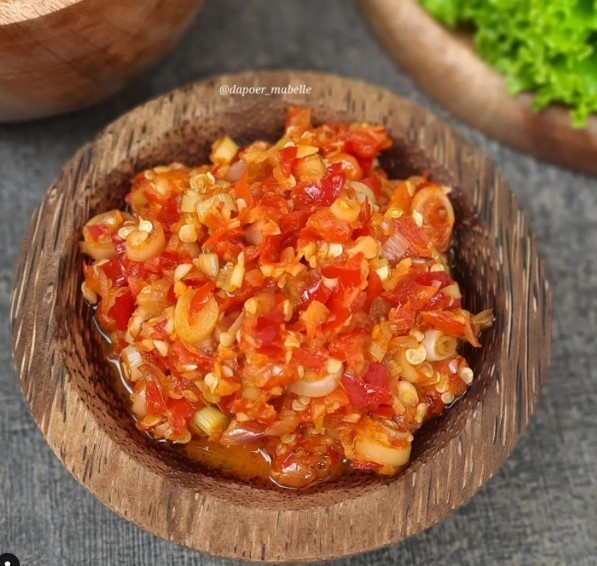sambal: (72, 117, 469, 482)
